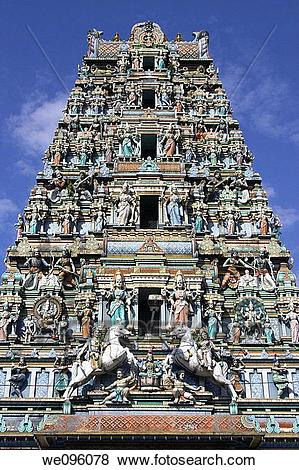Hindu Temple: (16, 18, 299, 421)
